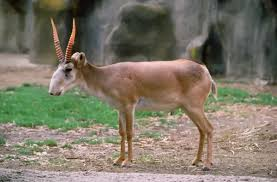saiga: (47, 17, 218, 175)
